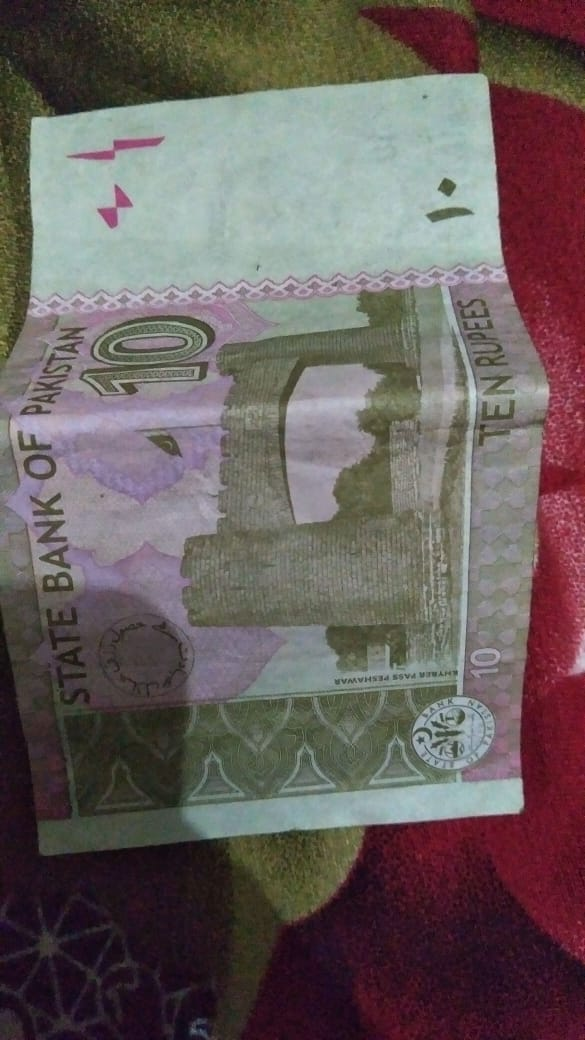10 rupee: (9, 71, 549, 843)
